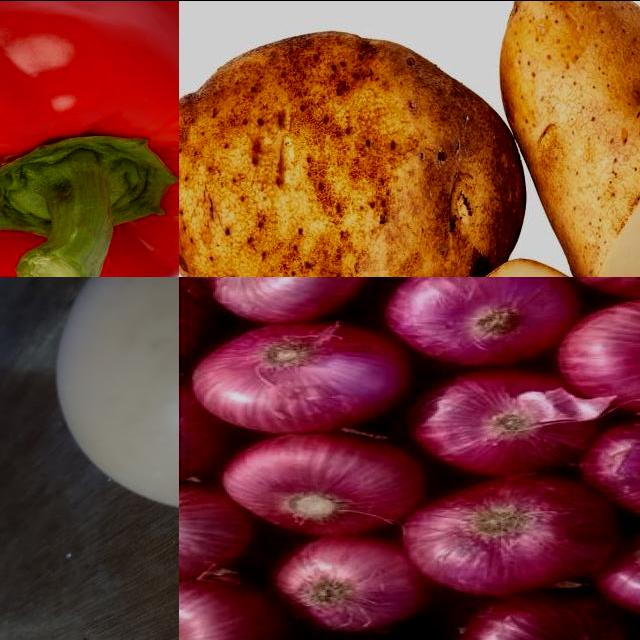bell_pepper: (1, 1, 180, 277)
egg: (51, 277, 180, 513)
onion: (410, 474, 622, 595), (195, 323, 410, 435), (399, 371, 605, 476), (225, 436, 424, 535), (390, 277, 585, 368), (271, 535, 443, 632), (553, 301, 640, 414), (448, 590, 631, 640), (207, 277, 385, 323), (180, 482, 255, 581), (180, 581, 287, 640), (589, 415, 640, 524), (594, 523, 640, 623)
potato: (180, 31, 524, 277), (501, 1, 640, 277)
